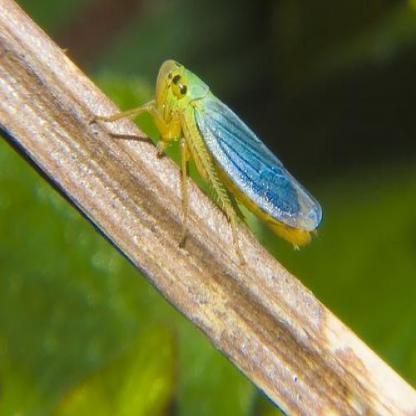Green-Leafhopper: (89, 56, 326, 254)
